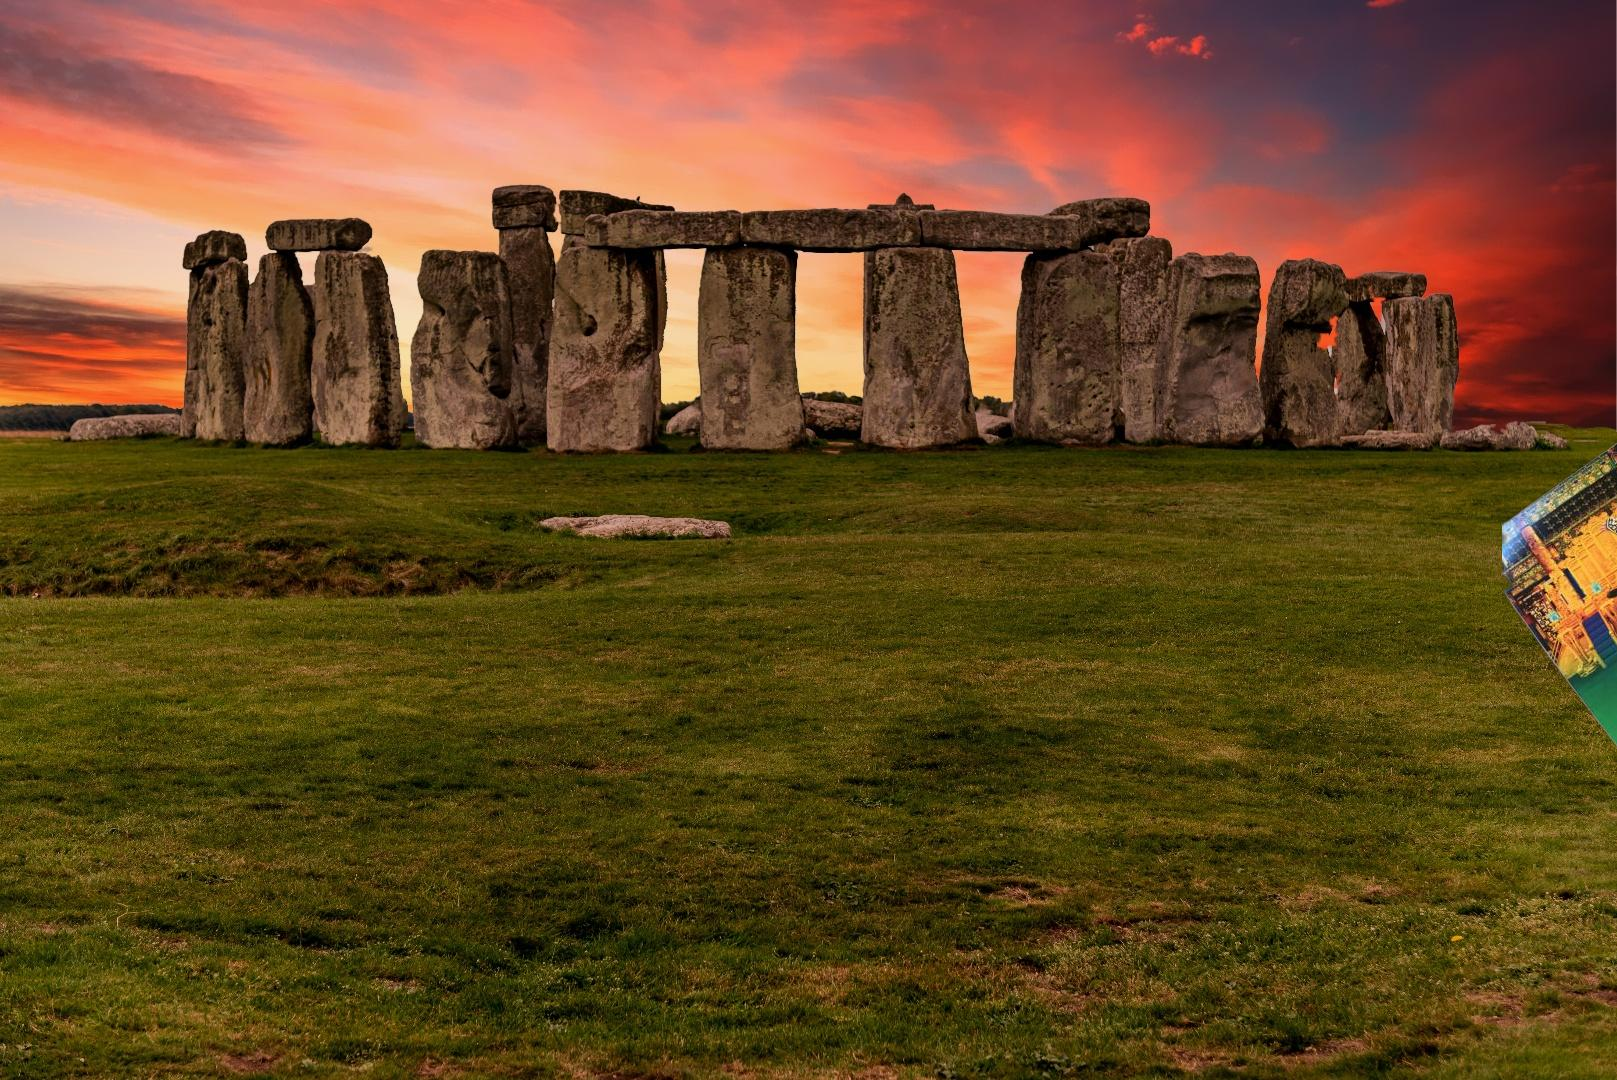paper: (1503, 423, 1617, 808)
